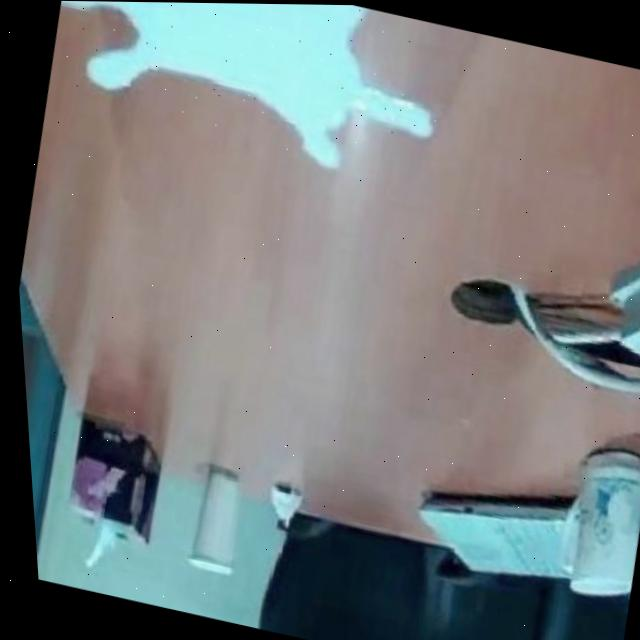spillage: (61, 1, 431, 167)
